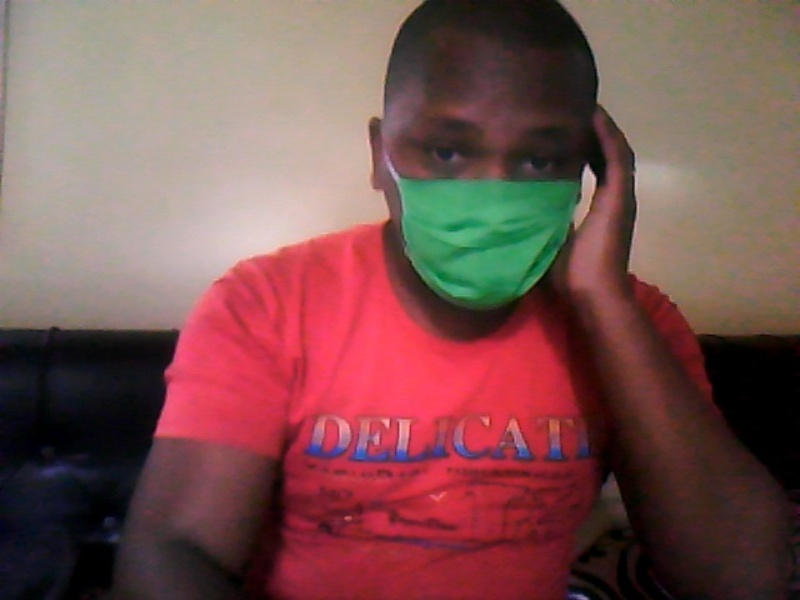ManaoArotava: (356, 16, 634, 330)
